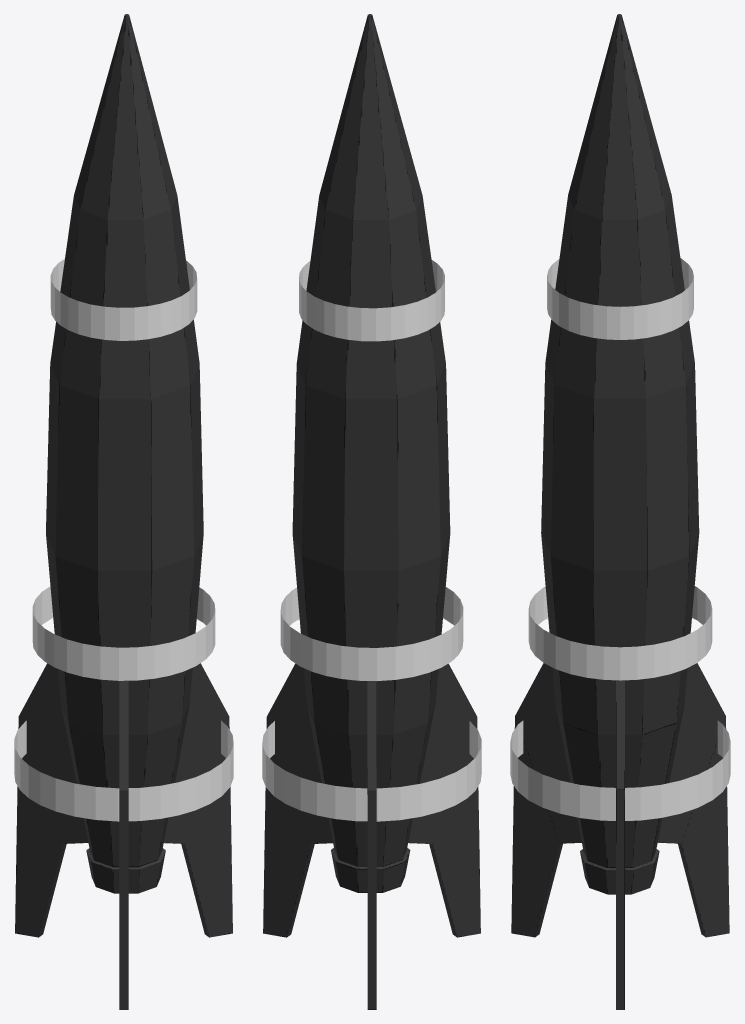
Rendered from rocket.gltf.
3 views of the same model, side by side, from view 1: azimuth 30°, elevation 25°; view 2: azimuth 150°, elevation 25°; view 3: azimuth 270°, elevation 25° (orthographic).
Visible parts, largest first — view 1: rocket, Surface.003, Surface.002, Surface; view 2: rocket, Surface.003, Surface.002, Surface; view 3: rocket, Surface.003, Surface.002, Surface.
Boxes of the visible parts, x1,y1,x2,y2 form: rocket: (15, 14, 232, 1009); Surface.003: (14, 720, 233, 821); Surface.002: (32, 586, 215, 680); Surface: (50, 259, 197, 340); rocket: (263, 14, 480, 1009); Surface.003: (262, 721, 481, 821); Surface.002: (280, 587, 463, 680); Surface: (299, 260, 444, 341); rocket: (511, 14, 729, 1009); Surface.003: (510, 720, 730, 820); Surface.002: (528, 586, 712, 680); Surface: (547, 258, 693, 339).
Bounding box in the file's own units: 12.73 × 56.76 × 12.
Materials: 4 (4 with a texture image).
